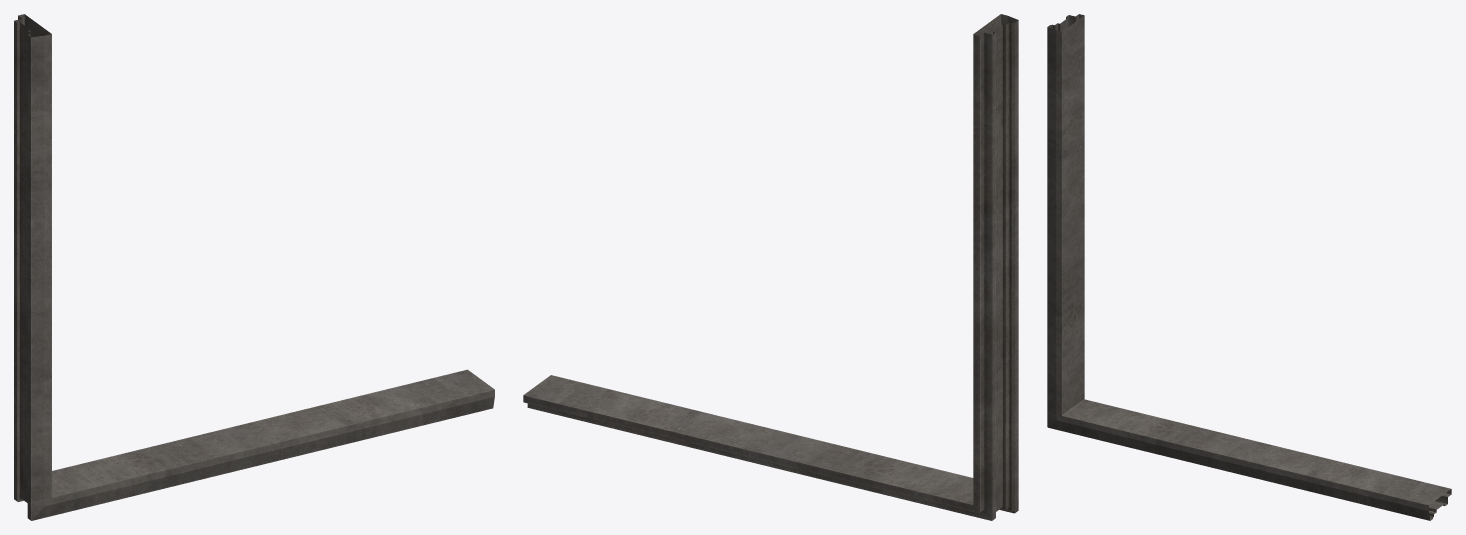
The model's file is crown_standard_corner_large_01.gltf.
3 renders of one model, left to right at view 1: azimuth 30°, elevation 25°; view 2: azimuth 150°, elevation 25°; view 3: azimuth 330°, elevation 25°, orthographic. The views are drawn at different scales.
Parts seen in each view (by area): view 1: crown_standard_corner_large_01; view 2: crown_standard_corner_large_01; view 3: crown_standard_corner_large_01.
Boxes of the visible parts, x1,y1,x2,y2 form: crown_standard_corner_large_01: (14, 14, 494, 520); crown_standard_corner_large_01: (523, 14, 1018, 520); crown_standard_corner_large_01: (1047, 14, 1451, 520).
Bounding box in the file's own units: 3.13 × 3.13 × 0.32.
1 material, 1 textured.
